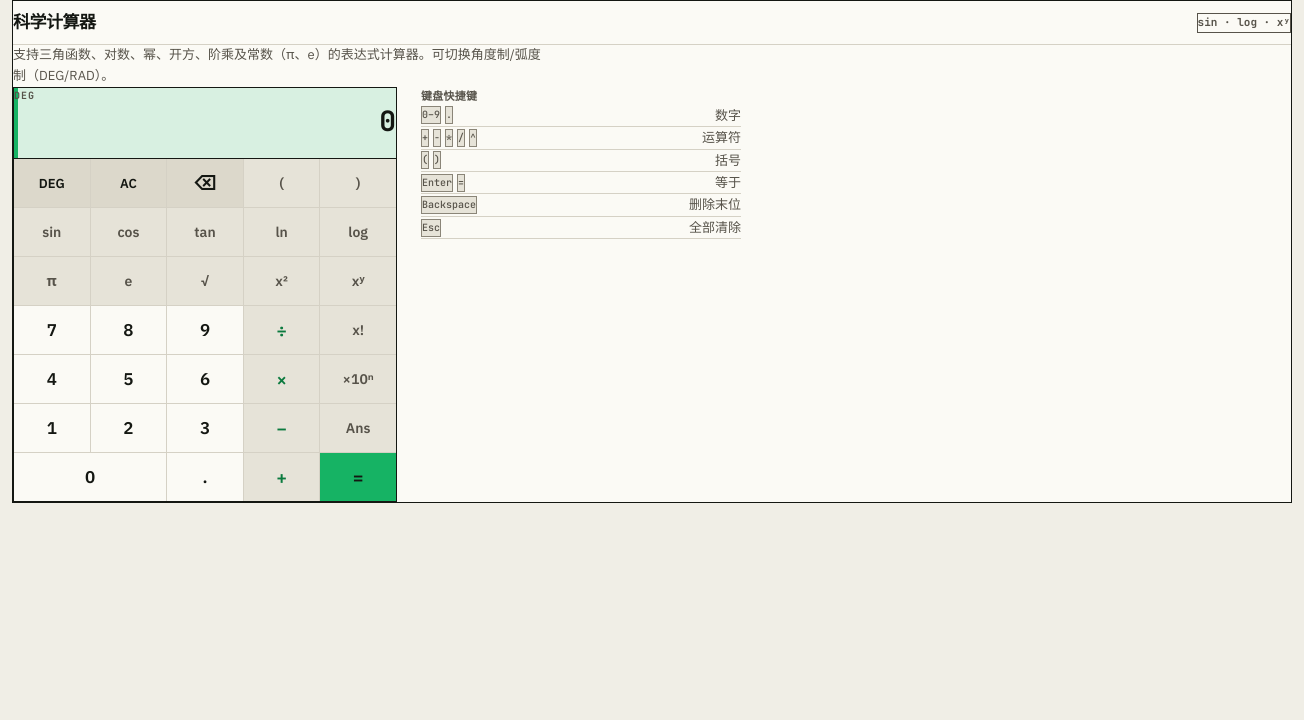
Scenario: ScientificCalc › respects operator precedence: 2 + 3 × 4 = 14
Click the button "2": (128, 428) [91,404,166,452]
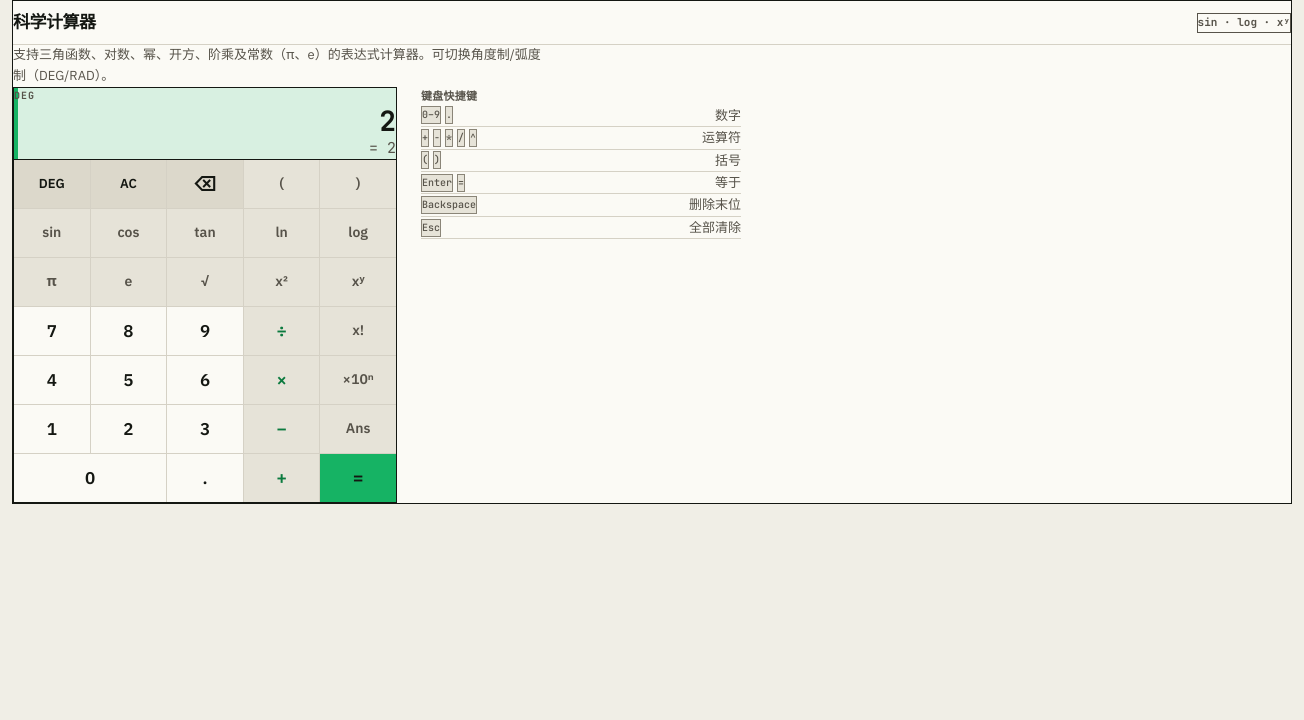
Click the button named "add": (282, 478) [244,454,319,502]
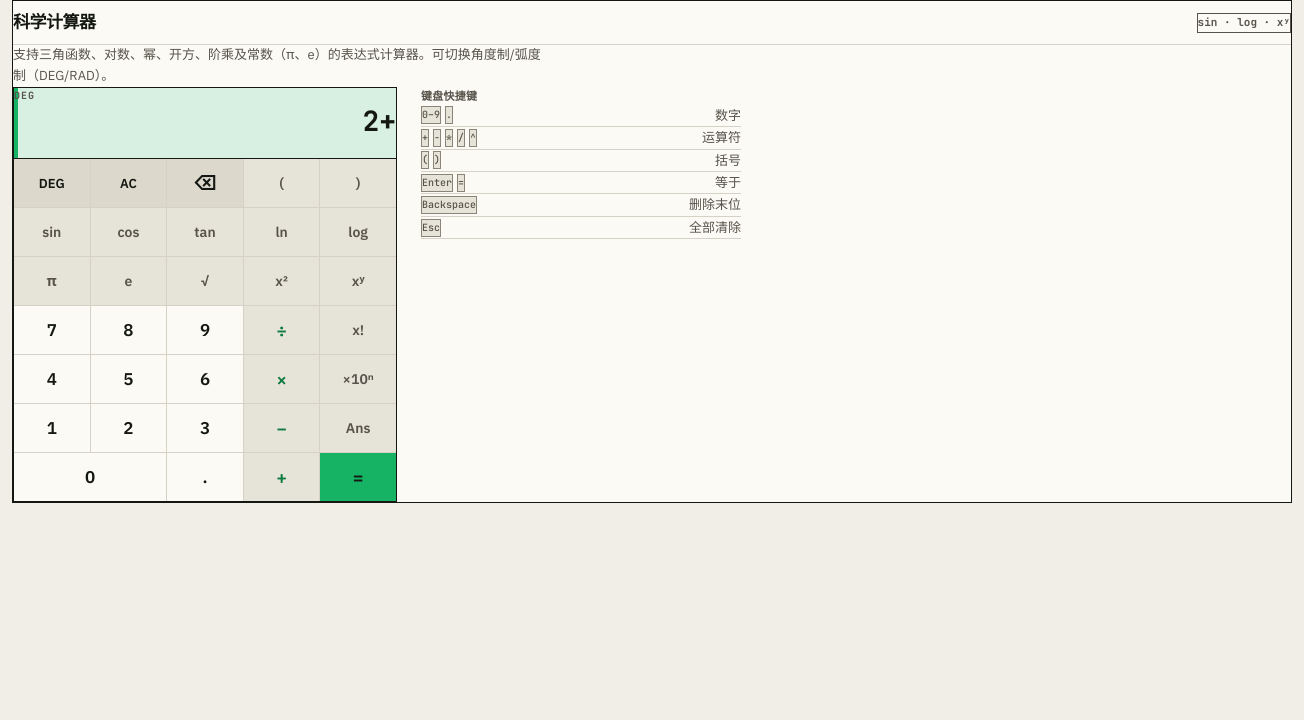
Click the button "3": (205, 428) [167,404,243,452]
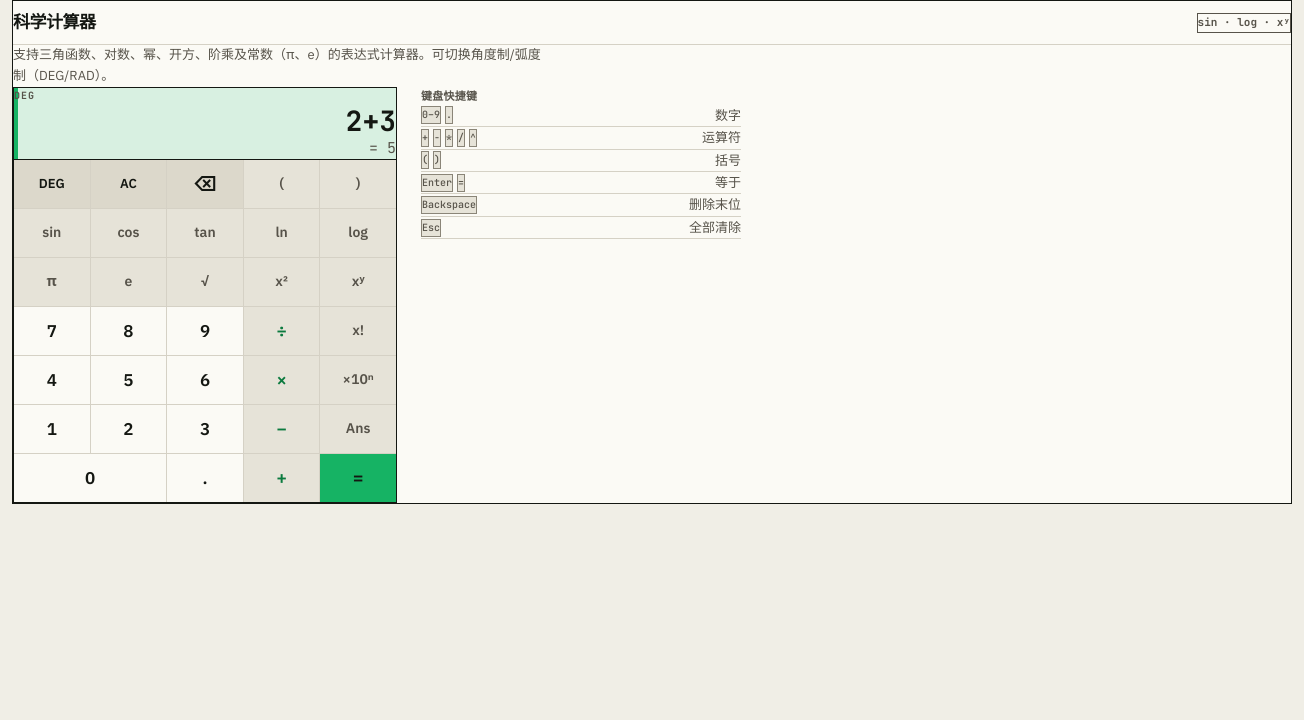
Click the button named "multiply": (282, 380) [244,356,319,404]
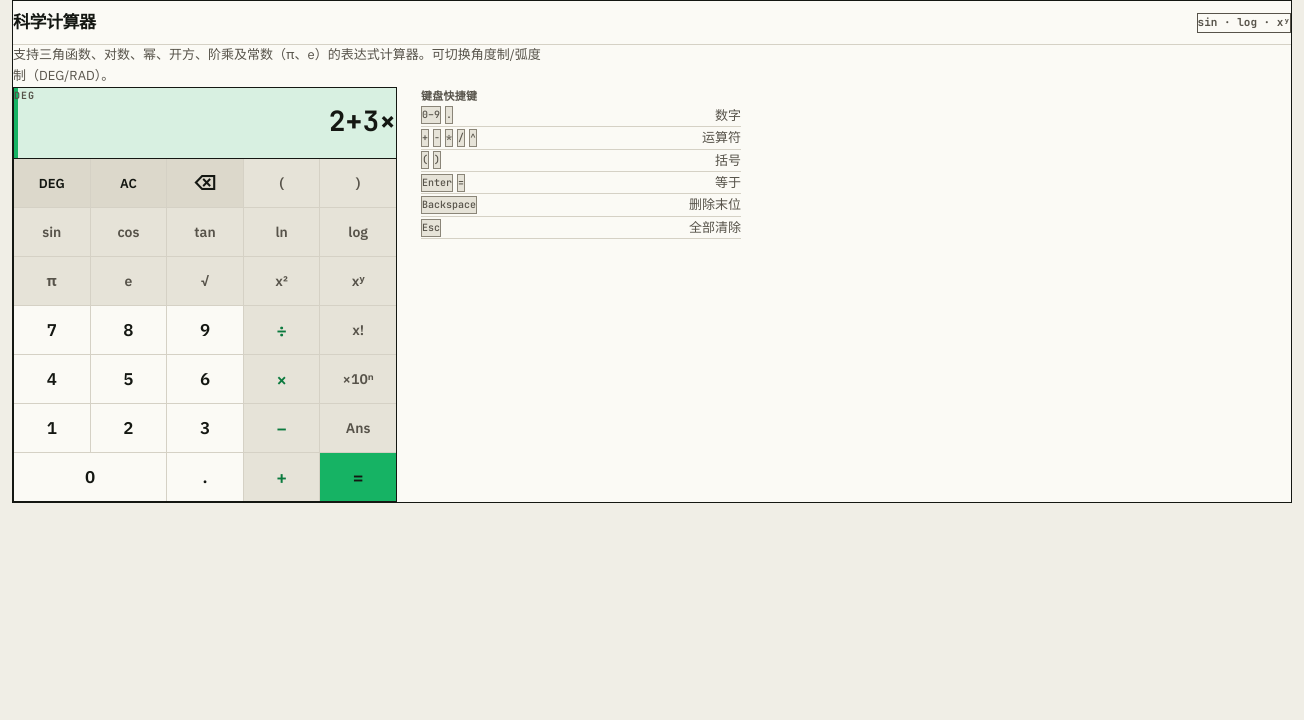
Click the button "4": (52, 380) [14,356,90,404]
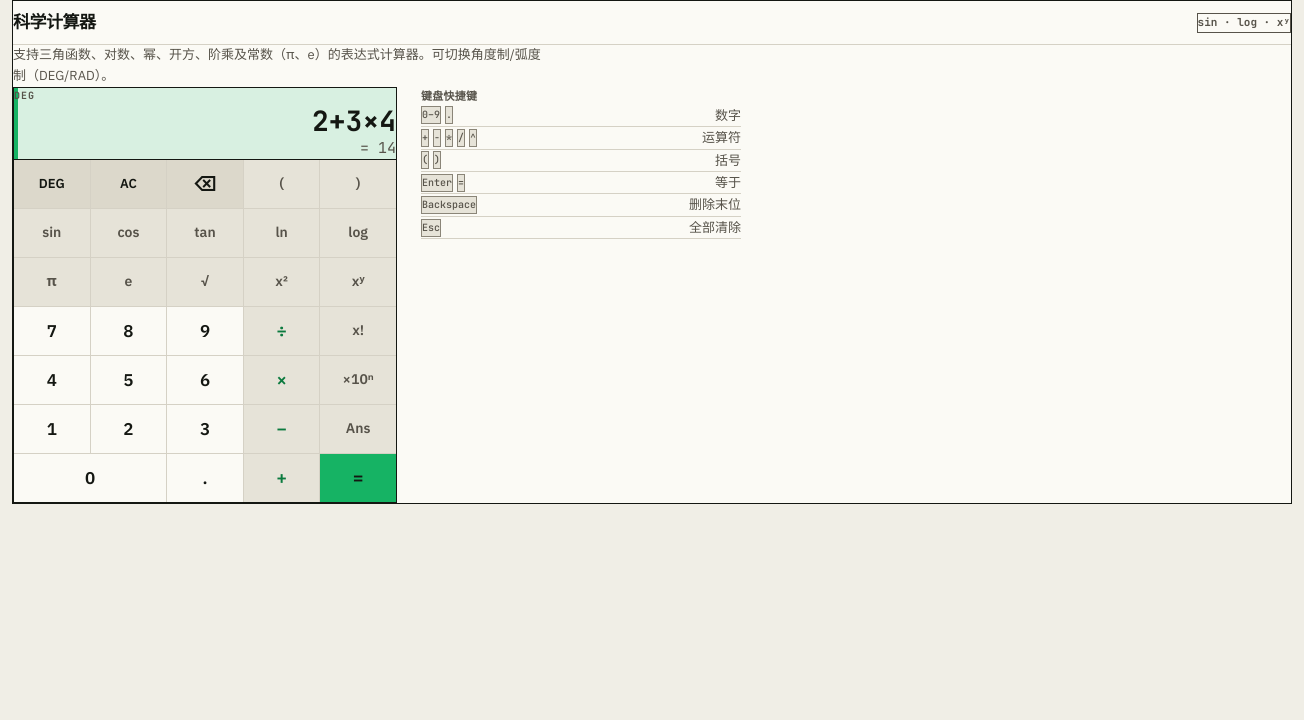
Click the button named "equals": (358, 478) [320,454,396,502]
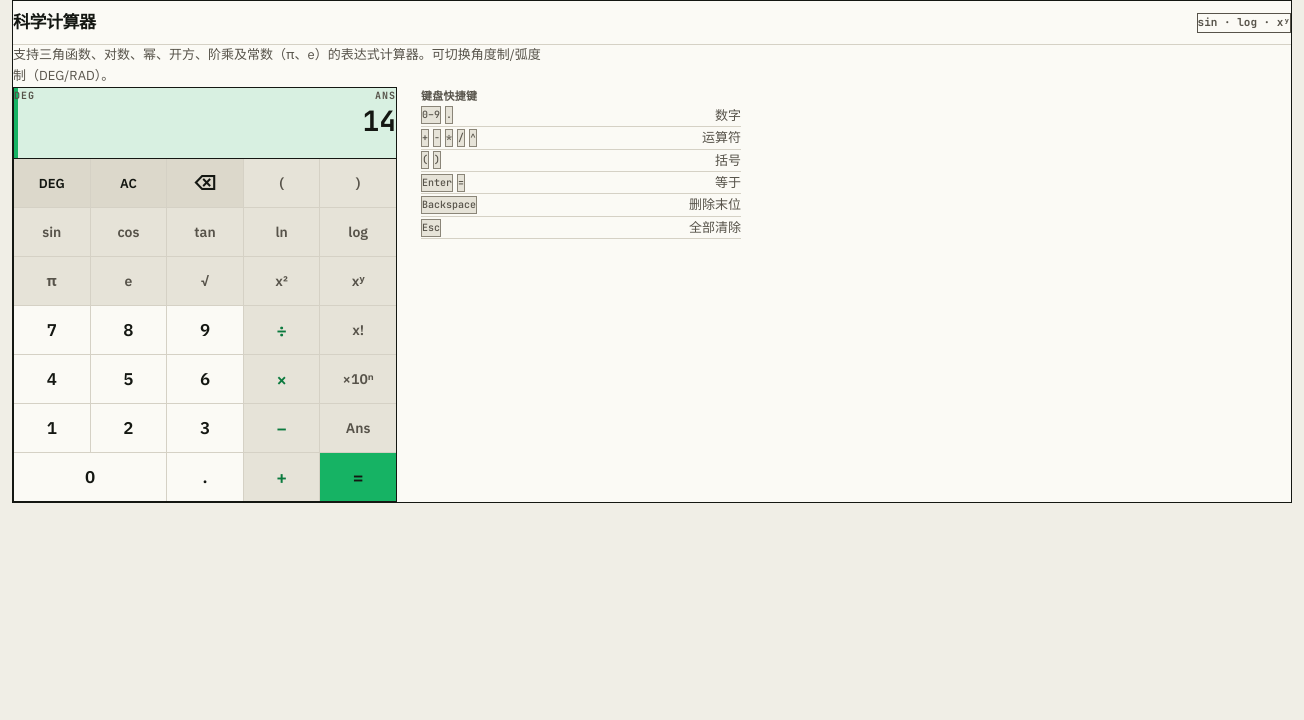
Result: the text "14" is shown at [362,102,396,139]
